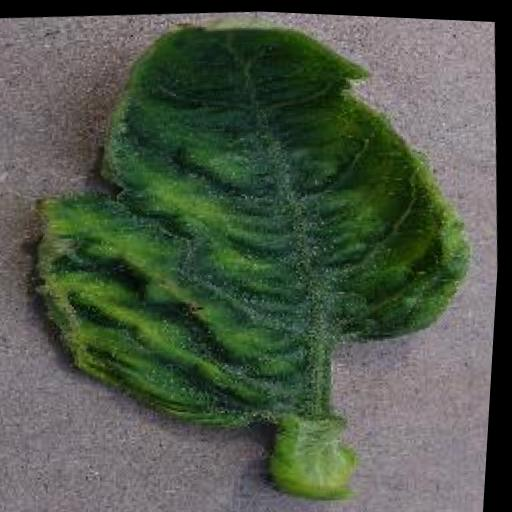Yellow Leaf Curl Virus: (8, 1, 496, 449)
